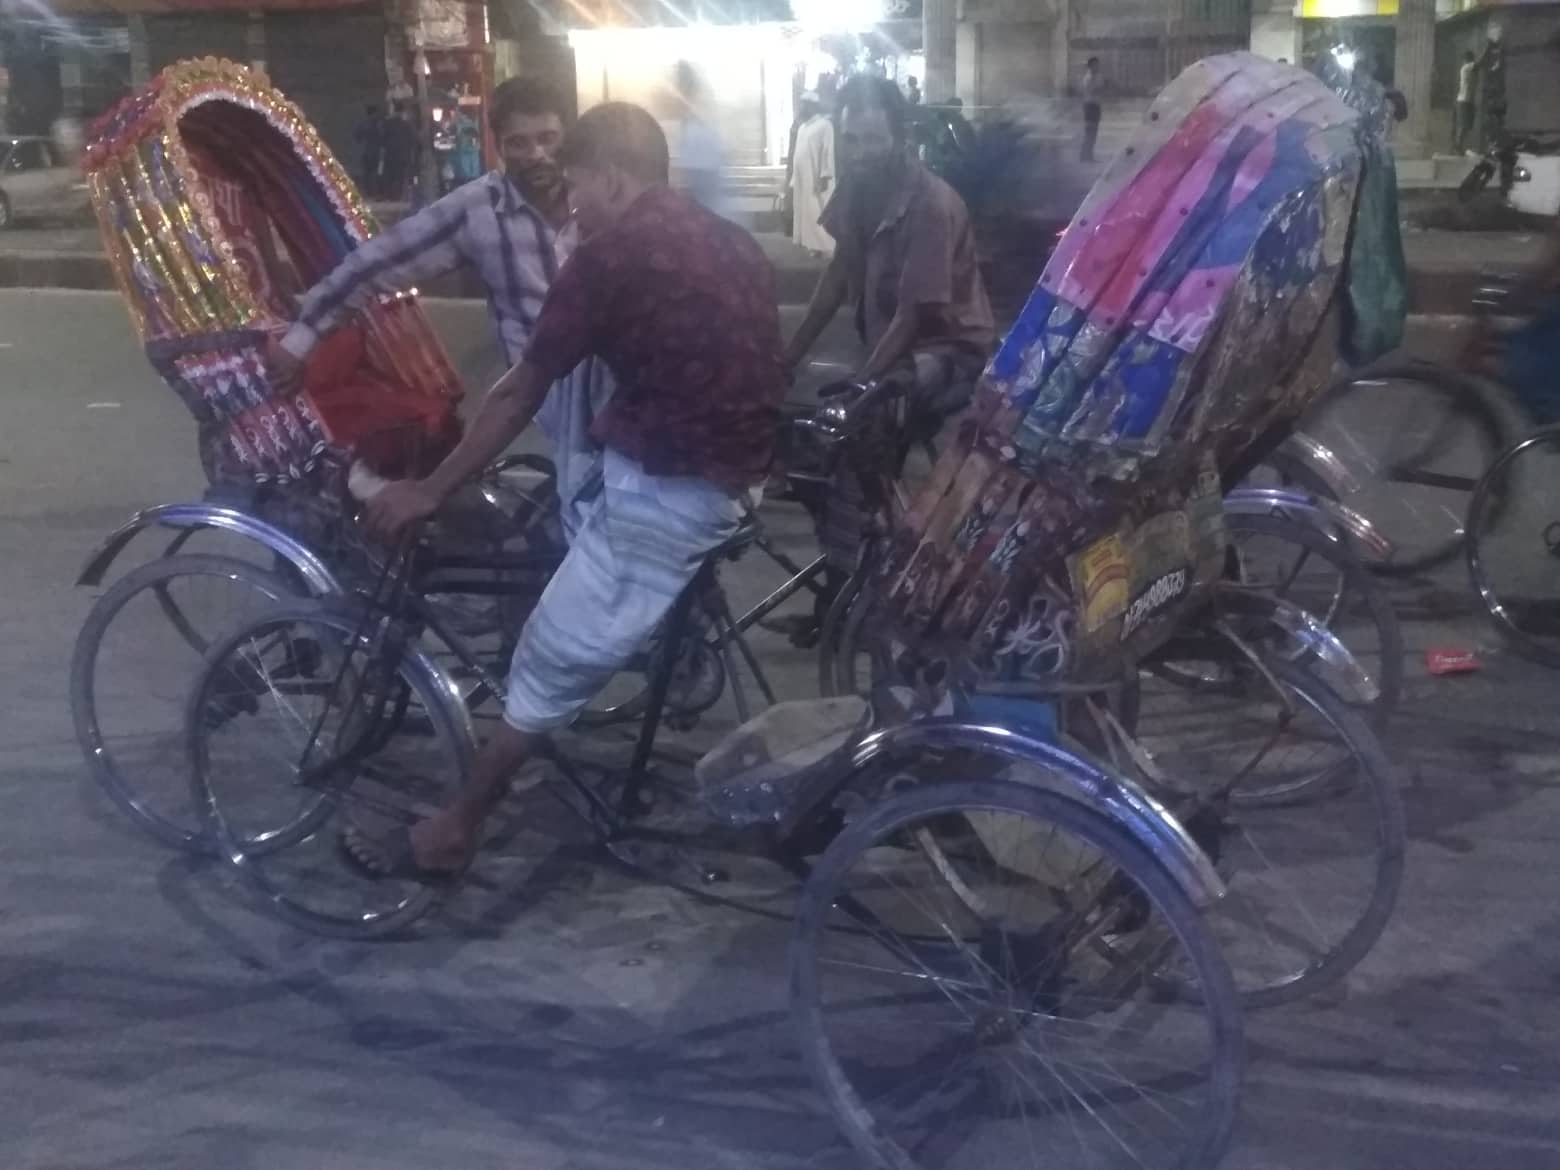Rickshaw: (313, 111, 1384, 1159), (34, 44, 534, 892), (1305, 31, 1521, 633)
